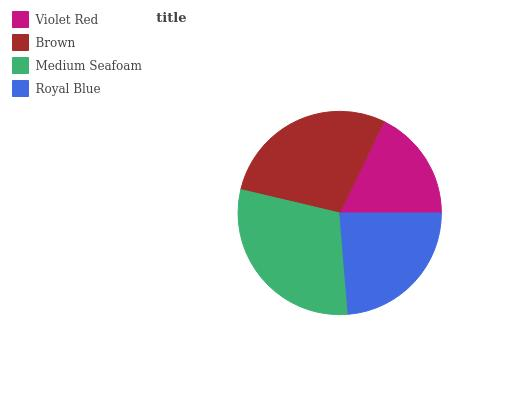legend: (0, 0, 146, 121)
sector: (241, 96, 386, 214), (233, 189, 349, 324), (339, 212, 444, 315), (341, 120, 443, 214)
